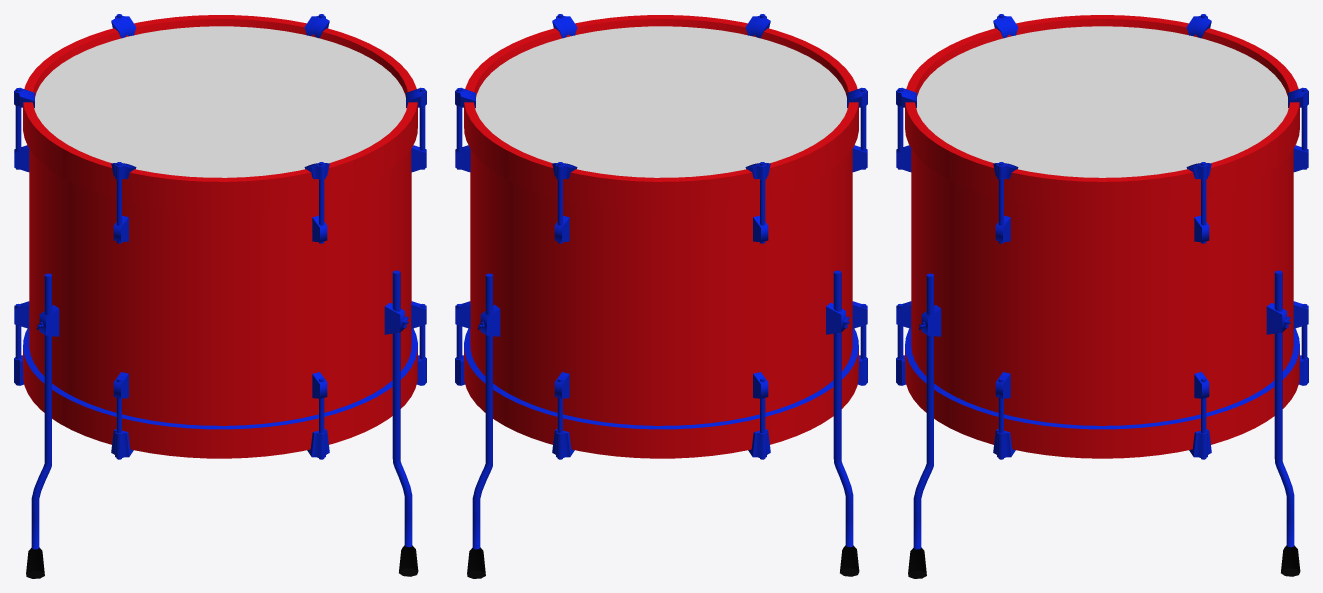
File: Drumkit_Floor_HP.fbx
3 renders of one model, left to right at view 1: azimuth 30°, elevation 25°; view 2: azimuth 150°, elevation 25°; view 3: azimuth 270°, elevation 25°, orthographic.
Parts seen in each view (by area): view 1: FloorTom_HP; view 2: FloorTom_HP; view 3: FloorTom_HP.
Part boxes in pixels (x1=…): FloorTom_HP: x1=14, y1=14, x2=426, y2=578; FloorTom_HP: x1=455, y1=14, x2=867, y2=578; FloorTom_HP: x1=896, y1=14, x2=1308, y2=578.
Bounding box in the file's own units: 4273 × 4897 × 4169.
